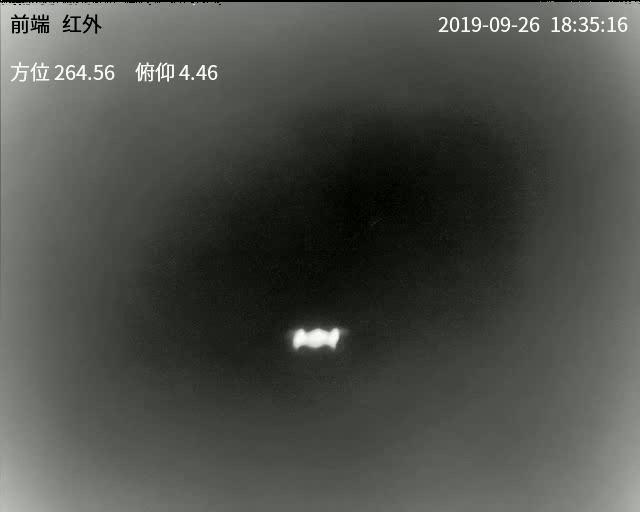DRONE: (290, 326, 342, 351)
